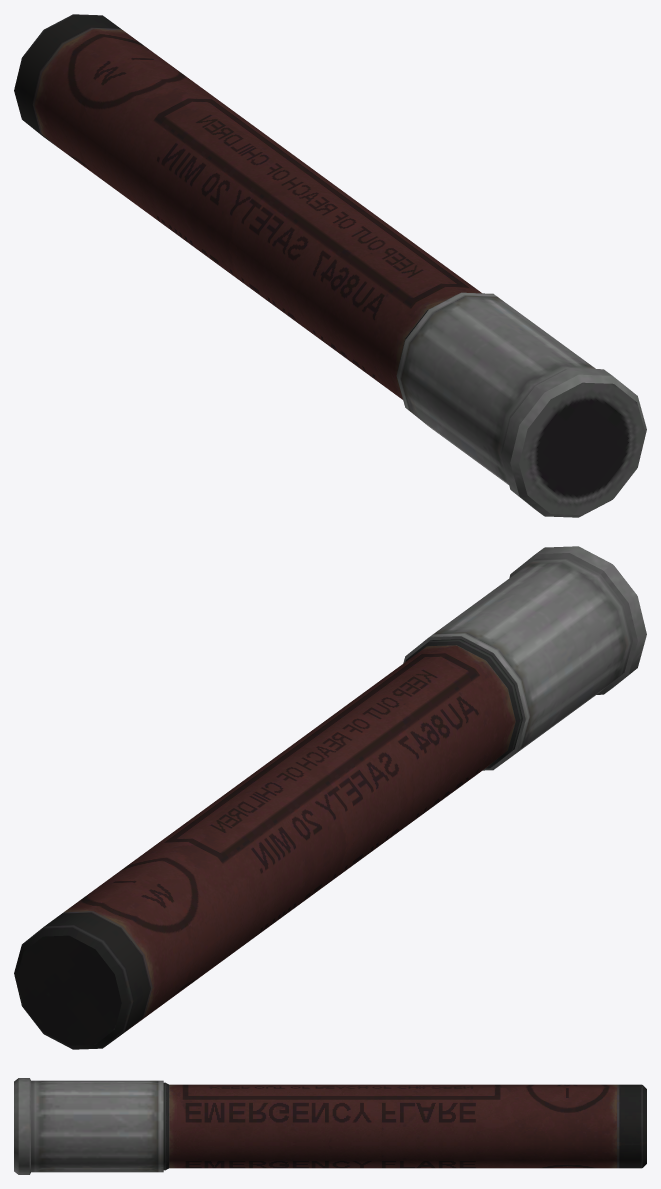
File: viewmodel_flare_LOD0.obj
3 views of the same model, one above another, from view 1: azimuth 30°, elevation 25°; view 2: azimuth 150°, elevation 25°; view 3: azimuth 270°, elevation 25° (orthographic). The views are drawn at different scales.
Parts seen in each view (by area): view 1: mtl_emergency_flare_high; view 2: mtl_emergency_flare_high; view 3: mtl_emergency_flare_high.
Part boxes in pixels (x1,y1,x2,y2): mtl_emergency_flare_high: (14,14,646,517); mtl_emergency_flare_high: (14,546,646,1049); mtl_emergency_flare_high: (14,1078,646,1174).
Size of the model in its own units: 5.11 by 5.11 by 33.22.
1 material, 1 textured.
